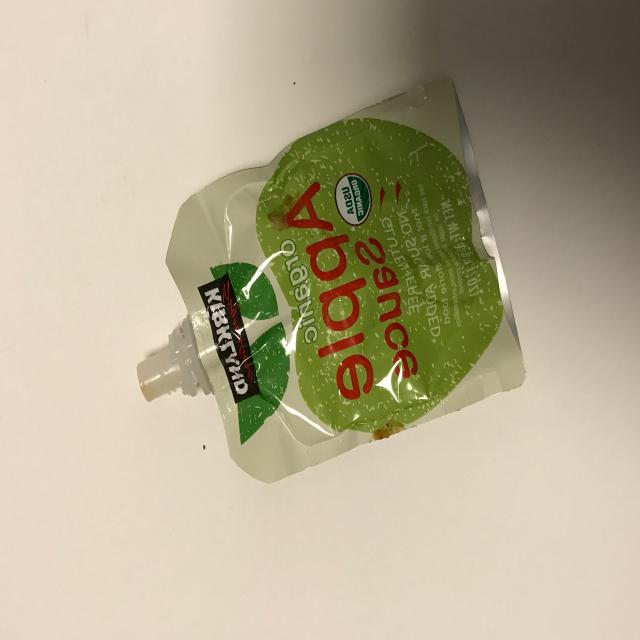trash: (137, 75, 526, 484)
